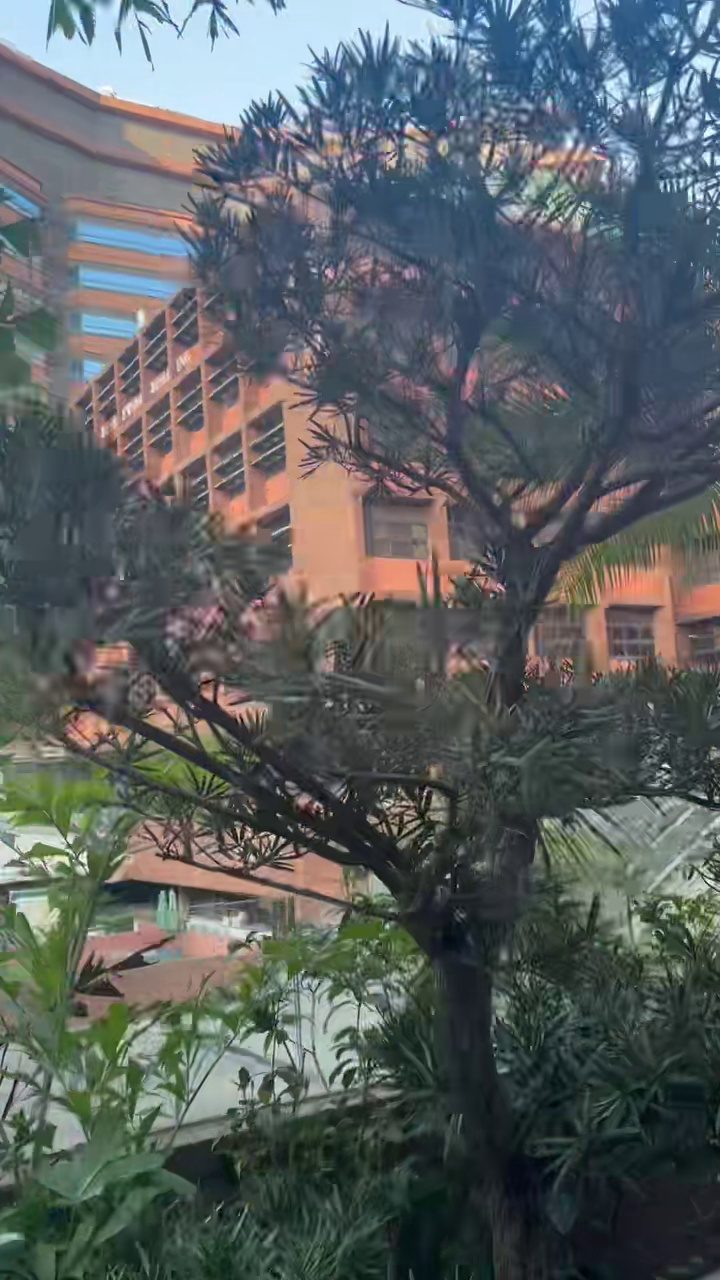Podocarpus macrophyllus: (9, 0, 719, 1279)
